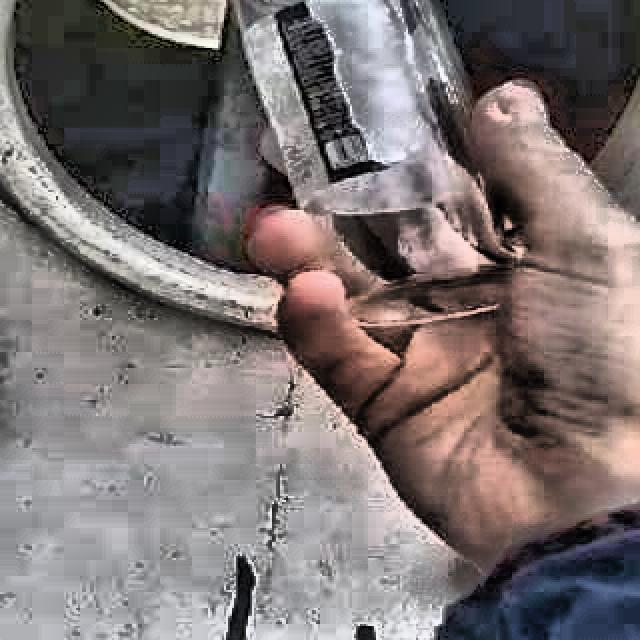glass: (229, 0, 517, 326)
